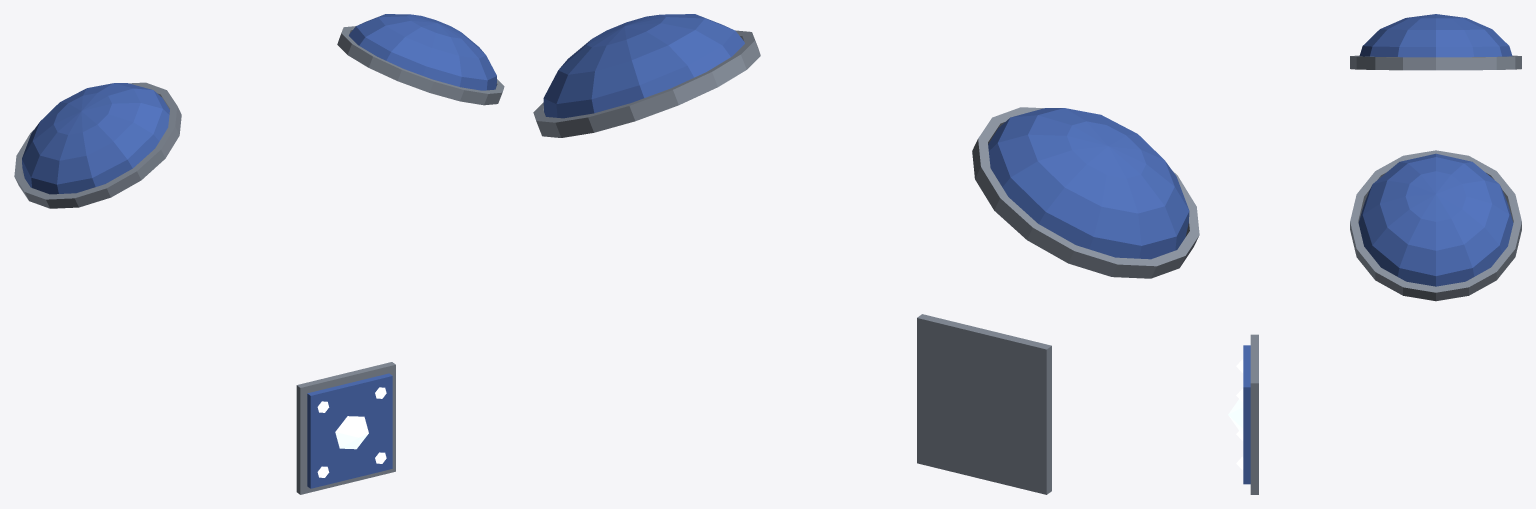
File: armor_knight_chest_rare_orc.glb
The picture shows the model from 3 angles, left to right: view 1: azimuth 30°, elevation 25°; view 2: azimuth 150°, elevation 25°; view 3: azimuth 270°, elevation 25°; orthographic projection. The views are drawn at different scales.
Parts seen in each view (by area): view 1: armor_knight_chest_rare_orc__clavicle_r, armor_knight_chest_rare_orc__spine_03, armor_knight_chest_rare_orc__clavicle_l; view 2: armor_knight_chest_rare_orc__clavicle_r, armor_knight_chest_rare_orc__spine_03, armor_knight_chest_rare_orc__clavicle_l; view 3: armor_knight_chest_rare_orc__clavicle_l, armor_knight_chest_rare_orc__clavicle_r, armor_knight_chest_rare_orc__spine_03.
Boxes of the visible parts, left/top/right/bottom form: armor_knight_chest_rare_orc__clavicle_r: left=14, top=82, right=181, bottom=208; armor_knight_chest_rare_orc__spine_03: left=296, top=362, right=395, bottom=494; armor_knight_chest_rare_orc__clavicle_l: left=337, top=14, right=504, bottom=105; armor_knight_chest_rare_orc__clavicle_r: left=972, top=107, right=1199, bottom=278; armor_knight_chest_rare_orc__spine_03: left=917, top=314, right=1051, bottom=494; armor_knight_chest_rare_orc__clavicle_l: left=533, top=14, right=760, bottom=137; armor_knight_chest_rare_orc__clavicle_l: left=1350, top=150, right=1521, bottom=301; armor_knight_chest_rare_orc__clavicle_r: left=1350, top=14, right=1521, bottom=70; armor_knight_chest_rare_orc__spine_03: left=1228, top=334, right=1258, bottom=494.
Size of the model in its own units: 69.81 by 51.41 by 36.25.
